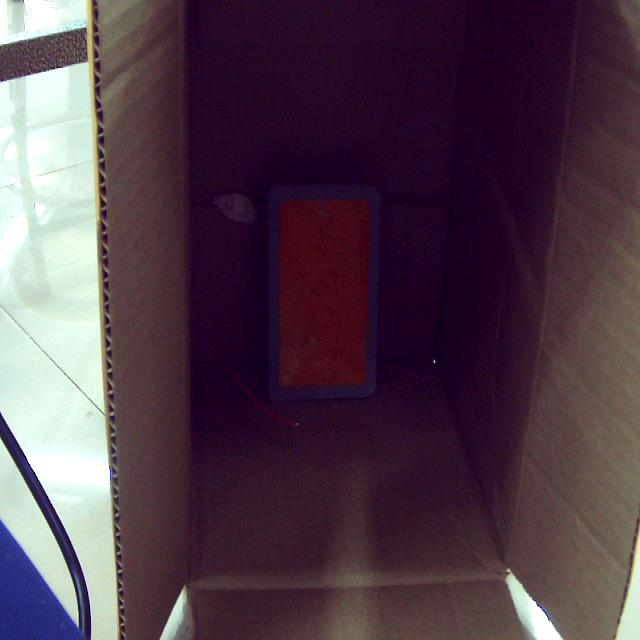block: (266, 184, 382, 406)
